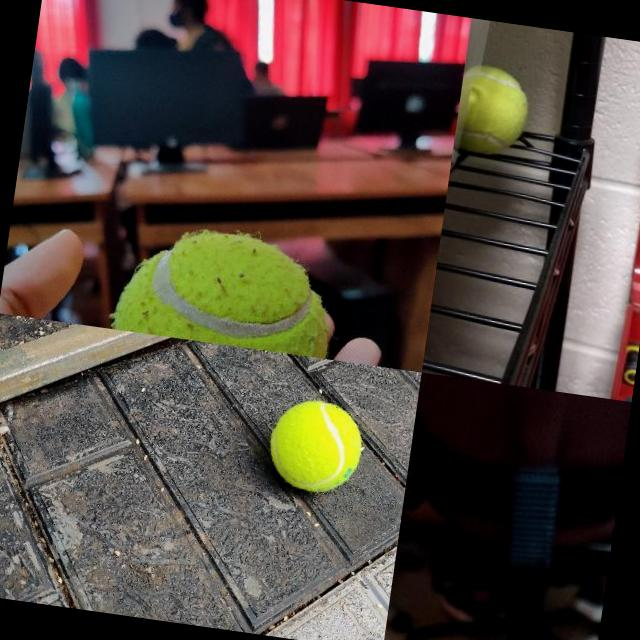Tennis Ball: (112, 219, 341, 358), (264, 394, 368, 500), (469, 64, 534, 158)
